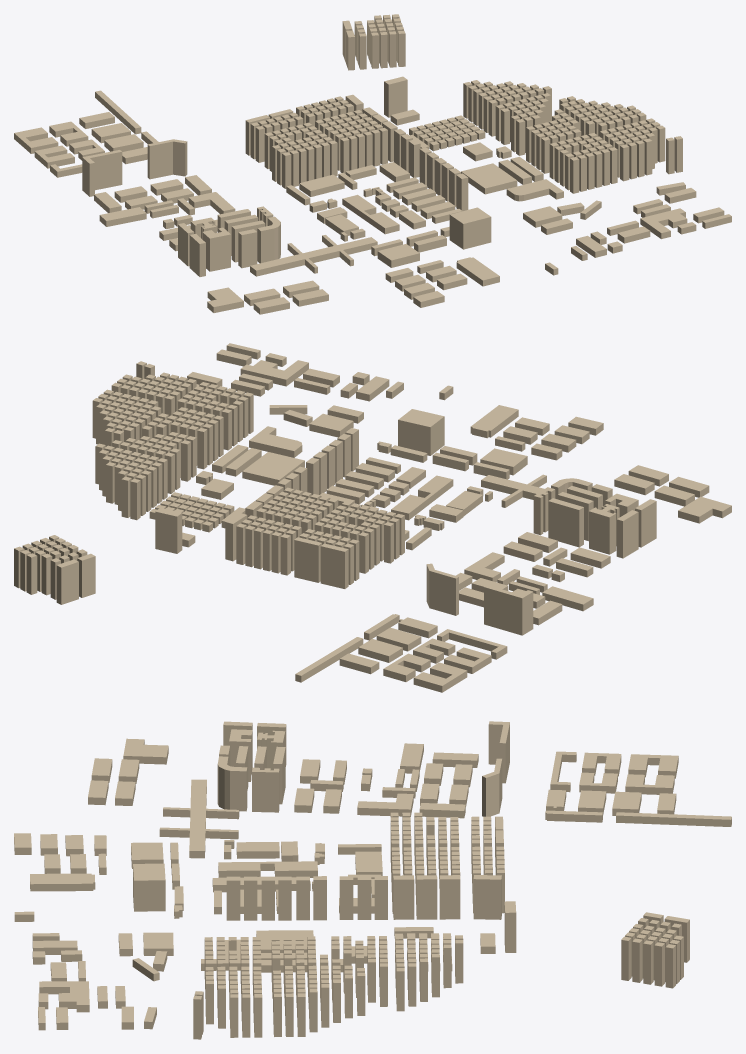
Rendered from -25_17-estimated-coarse.glb.
3 renders of one model, top to bottom at view 1: azimuth 30°, elevation 25°; view 2: azimuth 150°, elevation 25°; view 3: azimuth 270°, elevation 25°, orthographic. The views are drawn at different scales.
Bounding box in the file's own units: 1036 × 66 × 1071.
